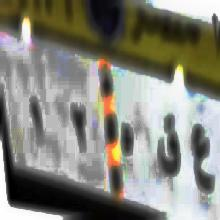1: (28, 91, 46, 146)
2: (72, 101, 90, 154)
ain: (189, 122, 213, 194)
haa: (120, 115, 135, 164)
qaaf: (154, 113, 182, 185)
